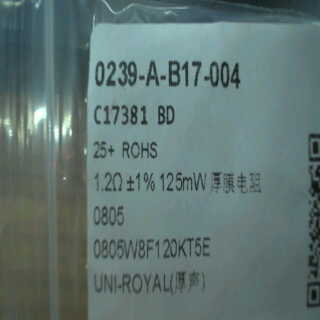1.2R: (91, 168, 126, 230)
